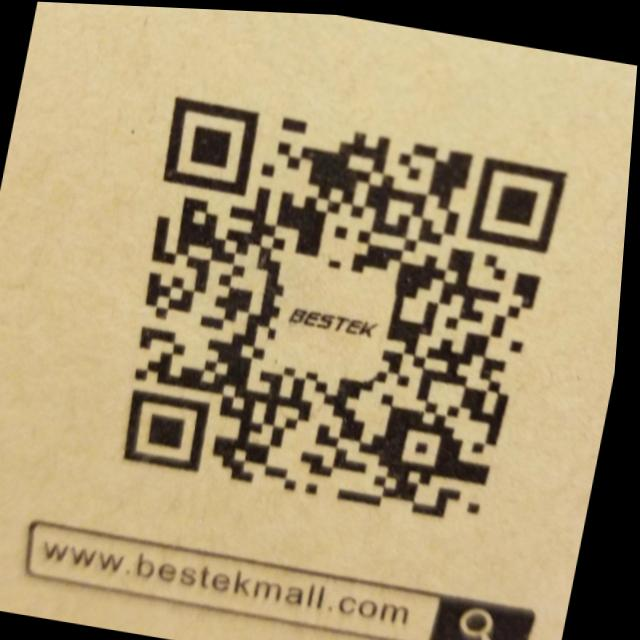QR_CODE: (76, 53, 585, 544)
